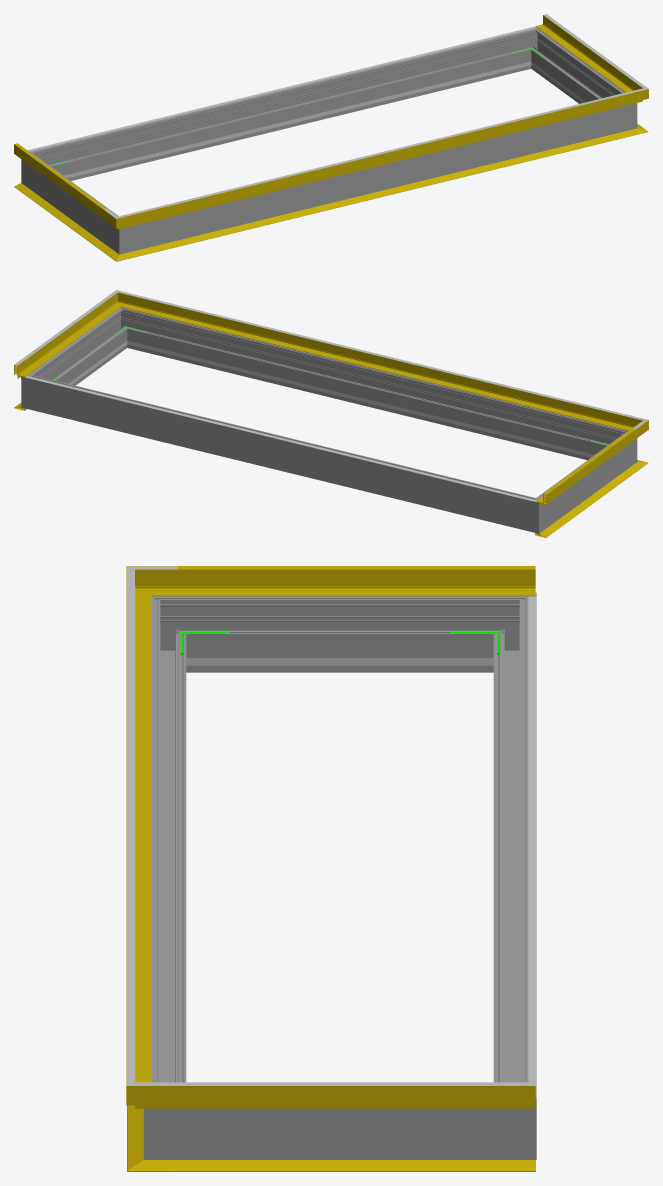
3 views of the same model, one above another, from view 1: azimuth 30°, elevation 25°; view 2: azimuth 150°, elevation 25°; view 3: azimuth 270°, elevation 25° (orthographic). The views are drawn at different scales.
Parts seen in each view (by area): view 1: 3DGeom-276, 3DGeom-298, 3DGeom-56, 3DGeom-28, 3DGeom-297, 3DGeom-244, 3DGeom-268, 3DGeom-58, 3DGeom-220, 3DGeom-66, 3DGeom-50, 3DGeom-270 (+7 smaller); view 2: 3DGeom-298, 3DGeom-276, 3DGeom-56, 3DGeom-297, 3DGeom-239, 3DGeom-268, 3DGeom-58, 3DGeom-220, 3DGeom-66, 3DGeom-278, 3DGeom-50, 3DGeom-38 (+6 smaller); view 3: 3DGeom-268, 3DGeom-276, 3DGeom-298, 3DGeom-297, 3DGeom-50, 3DGeom-56, 3DGeom-58, 3DGeom-220, 3DGeom-30, 3DGeom-66, 3DGeom-284, 3DGeom-290 (+8 smaller).
Boxes of the visible parts, x1,y1,x2,y2 form: 3DGeom-276: (45, 32, 527, 180); 3DGeom-298: (141, 108, 614, 248); 3DGeom-56: (136, 94, 626, 224); 3DGeom-28: (134, 132, 625, 256); 3DGeom-297: (533, 36, 620, 103); 3DGeom-244: (71, 66, 509, 176); 3DGeom-268: (34, 159, 113, 244); 3DGeom-58: (535, 15, 632, 91); 3DGeom-220: (28, 26, 536, 151); 3DGeom-66: (137, 93, 626, 213); 3DGeom-50: (14, 144, 103, 218); 3DGeom-270: (106, 212, 141, 254); 3DGeom-298: (131, 311, 612, 460); 3DGeom-276: (43, 379, 520, 528); 3DGeom-56: (132, 297, 624, 428); 3DGeom-297: (37, 315, 124, 385); 3DGeom-239: (148, 346, 586, 456); 3DGeom-268: (545, 438, 624, 523); 3DGeom-58: (14, 300, 114, 379); 3DGeom-220: (25, 376, 536, 501); 3DGeom-66: (137, 295, 626, 415); 3DGeom-278: (517, 491, 551, 533); 3DGeom-50: (535, 429, 636, 506); 3DGeom-38: (535, 468, 635, 537); 3DGeom-268: (194, 596, 485, 672); 3DGeom-276: (493, 614, 536, 1082); 3DGeom-298: (152, 614, 186, 1082); 3DGeom-297: (194, 1108, 485, 1159); 3DGeom-50: (177, 566, 535, 596); 3DGeom-56: (126, 588, 151, 1082); 3DGeom-58: (177, 1086, 535, 1108); 3DGeom-220: (528, 596, 536, 1094); 3DGeom-30: (178, 1160, 535, 1171); 3DGeom-66: (126, 588, 134, 1064); 3DGeom-284: (485, 1076, 536, 1159); 3DGeom-290: (143, 1076, 194, 1159).
Size of the model in its own units: 3.66 by 0.2831 by 1.22.
